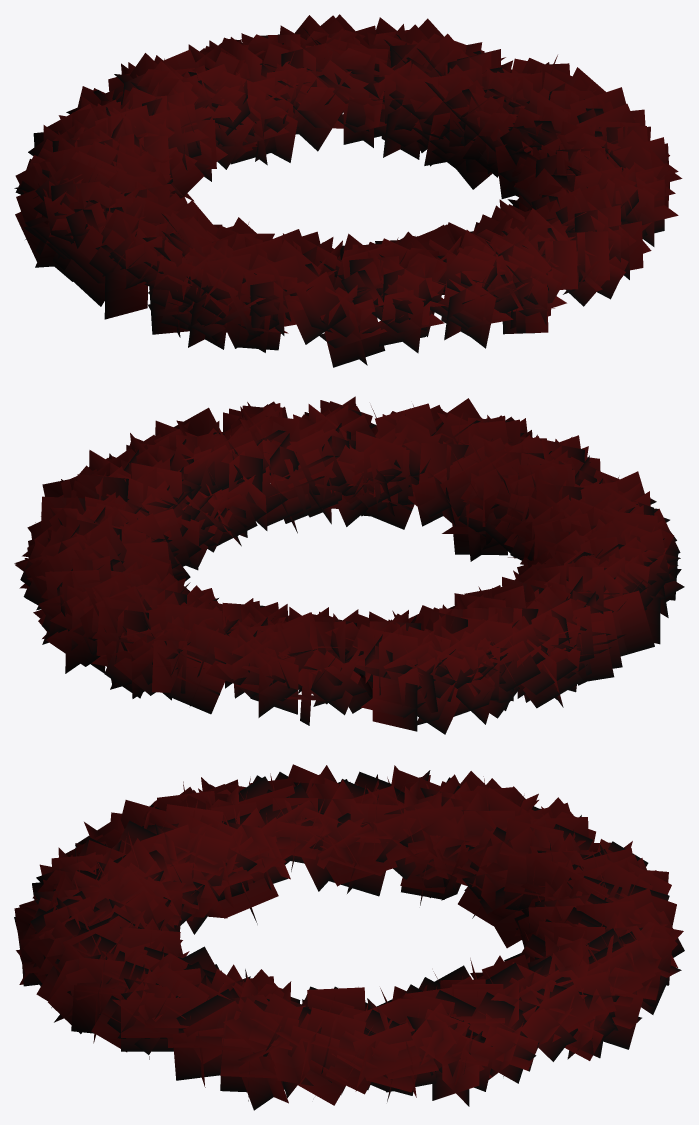
Rendered from FountainHedgeLeafs.fbx.
3 views of the same model, one above another, from view 1: azimuth 30°, elevation 25°; view 2: azimuth 150°, elevation 25°; view 3: azimuth 270°, elevation 25° (orthographic).
Parts seen in each view (by area): view 1: GeomLeaves; view 2: GeomLeaves; view 3: GeomLeaves.
Part boxes in pixels (x1,y1,x2,y2): GeomLeaves: (14,14,682,367); GeomLeaves: (14,396,684,734); GeomLeaves: (14,764,684,1110).
Bounding box in the file's own units: 506 × 91.28 × 501.
